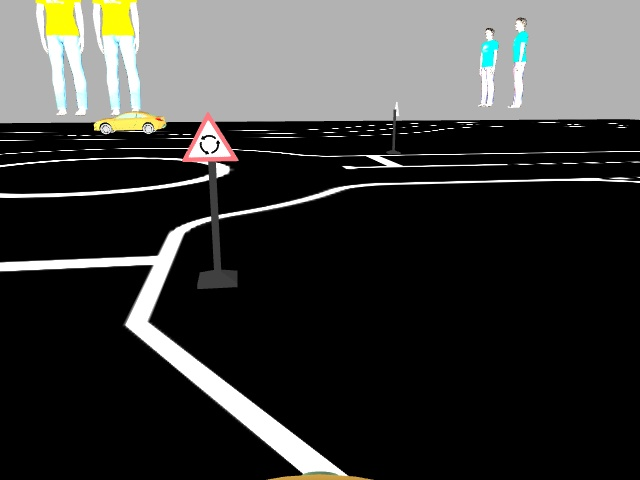Roundabout: (181, 112, 240, 163)
